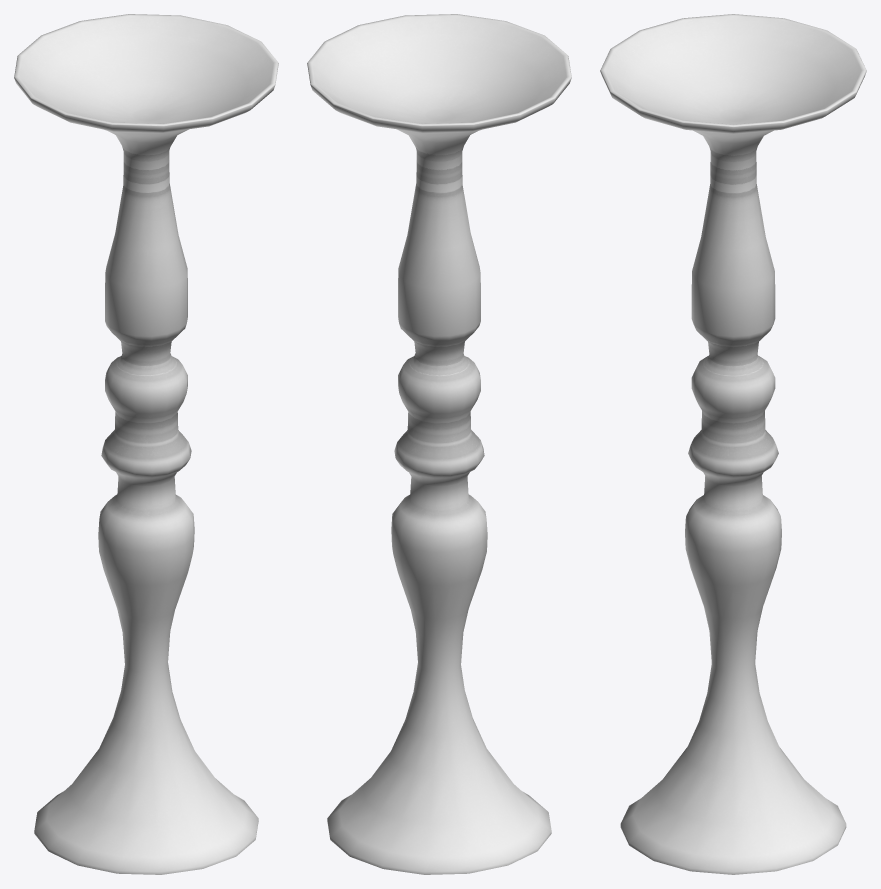
File: DecorStandPot01_1.FBX
The picture shows the model from 3 angles, left to right: view 1: azimuth 30°, elevation 25°; view 2: azimuth 150°, elevation 25°; view 3: azimuth 270°, elevation 25°; orthographic projection.
Visible parts, largest first — view 1: DecorStandPot01_1; view 2: DecorStandPot01_1; view 3: DecorStandPot01_1.
Part boxes in pixels (<box>): DecorStandPot01_1: <box>14,14,278,874</box>; DecorStandPot01_1: <box>307,14,571,874</box>; DecorStandPot01_1: <box>600,14,866,874</box>.
Size of what is drawn, in the model's own units: 0.325 by 1.02 by 0.325.
